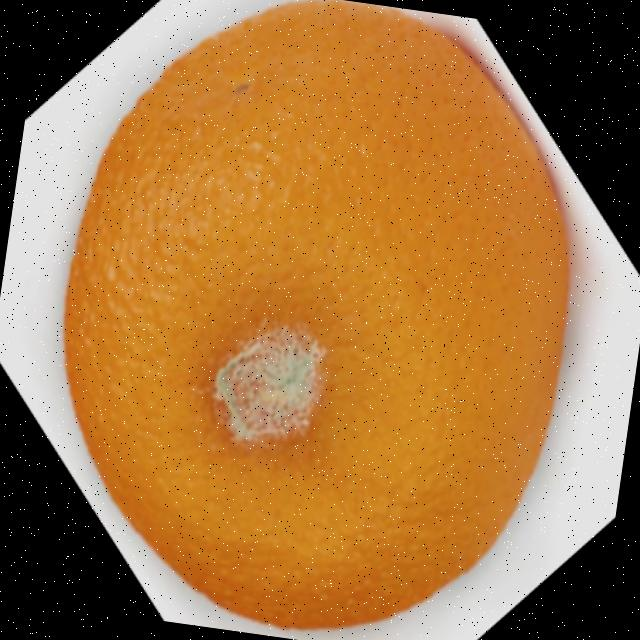Rotten: (25, 0, 607, 640)
